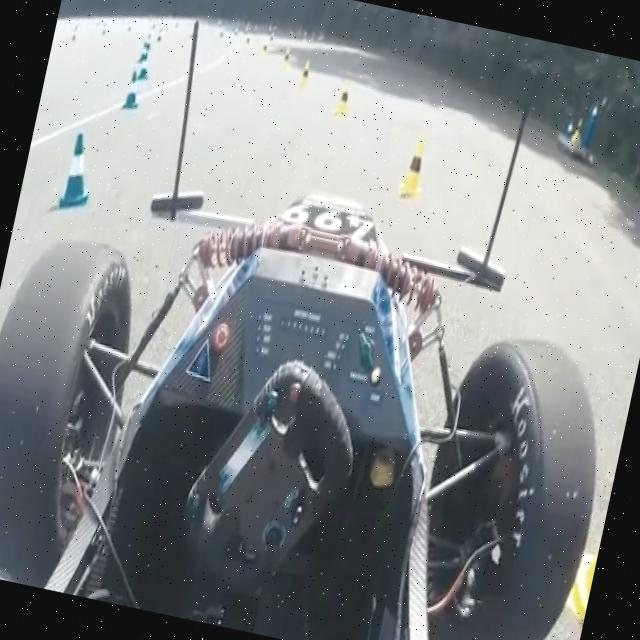blue_cone: (55, 130, 102, 214), (121, 66, 145, 114), (136, 51, 152, 82)
yellow_cone: (547, 444, 619, 640), (396, 135, 434, 204), (332, 76, 354, 118), (297, 59, 313, 90)
